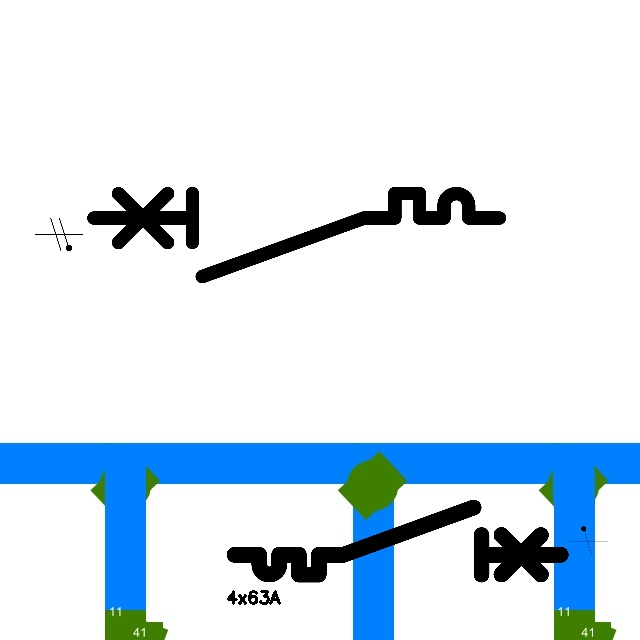interruptor_termomagnetico: (83, 183, 509, 287), (226, 499, 569, 583)
